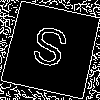S: (25, 24, 71, 78)
